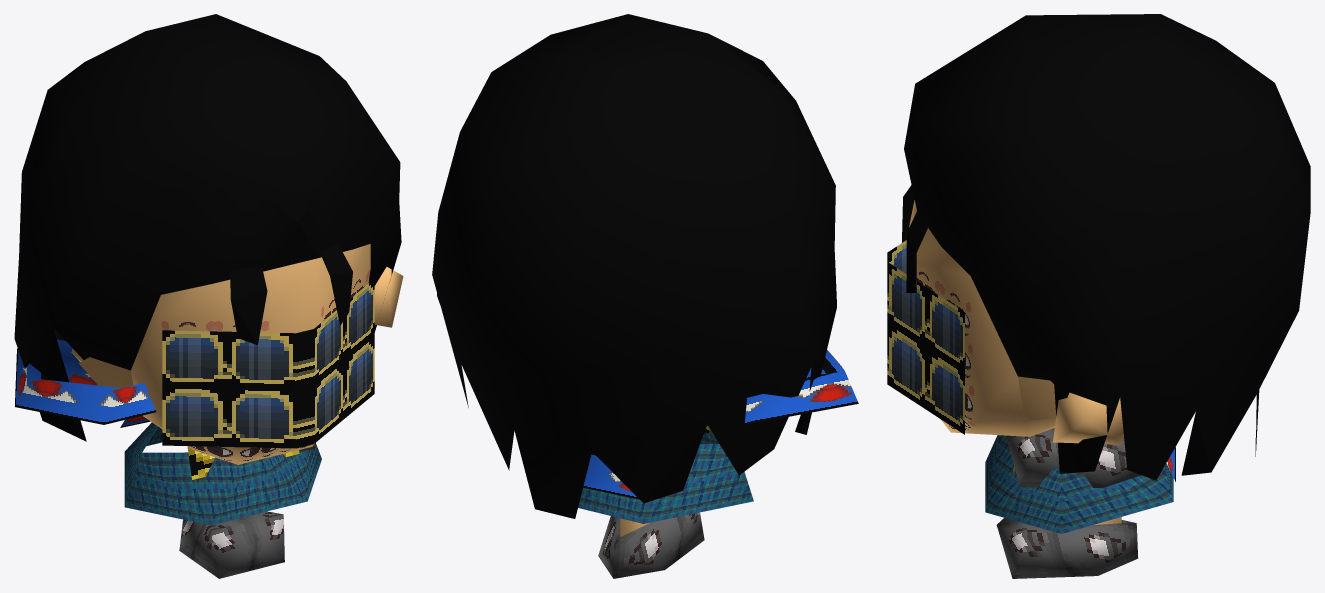
3 renders of one model, left to right at view 1: azimuth 30°, elevation 25°; view 2: azimuth 150°, elevation 25°; view 3: azimuth 270°, elevation 25°, orthographic. The views are drawn at different scales.
Parts seen in each view (by area): view 1: pmd48_00_01; view 2: pmd48_00_01; view 3: pmd48_00_01.
Part boxes in pixels (left/top/right/bottom): pmd48_00_01: left=14, top=14, right=403, bottom=578; pmd48_00_01: left=432, top=14, right=858, bottom=578; pmd48_00_01: left=887, top=14, right=1310, bottom=578.
Bounding box in the file's own units: 1.22 × 1.46 × 1.06.
8 materials, 8 textured.
